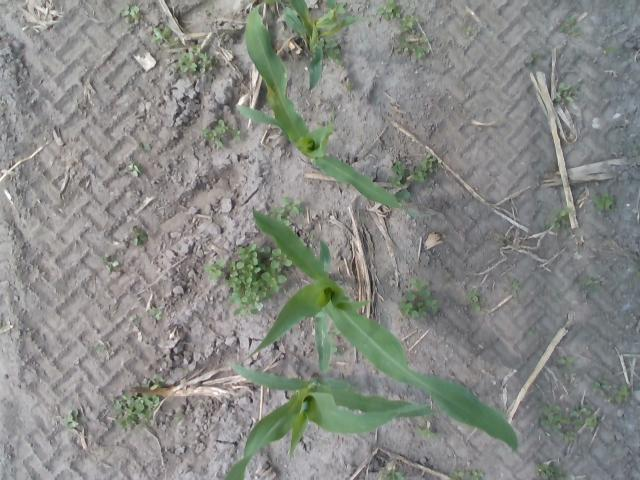Maize: (250, 206, 518, 453), (236, 2, 436, 218), (224, 361, 438, 480), (275, 0, 363, 90)
Weeds: (230, 242, 266, 314), (116, 394, 160, 427), (203, 119, 231, 147), (262, 267, 284, 293), (377, 1, 403, 19), (538, 462, 564, 480), (205, 258, 226, 278), (594, 191, 614, 211), (540, 415, 563, 432), (552, 208, 570, 229), (280, 199, 303, 214), (180, 53, 198, 72), (61, 409, 78, 428), (410, 278, 430, 294), (132, 226, 148, 246), (266, 248, 282, 267), (559, 18, 576, 35), (396, 180, 410, 200), (402, 13, 418, 30), (615, 386, 630, 404), (570, 405, 590, 418), (392, 40, 408, 56), (411, 301, 426, 318), (411, 43, 428, 58), (400, 294, 414, 312), (198, 55, 212, 73), (124, 5, 139, 21), (326, 42, 340, 59), (102, 254, 119, 268), (424, 153, 436, 172), (417, 428, 436, 440), (560, 83, 572, 101), (152, 28, 170, 40), (560, 417, 584, 426), (545, 404, 559, 418), (393, 160, 407, 174), (382, 471, 403, 480), (582, 278, 596, 291), (558, 355, 576, 365), (528, 54, 545, 64), (150, 307, 163, 320), (414, 166, 426, 180), (230, 130, 242, 144), (467, 470, 483, 480), (594, 377, 606, 390), (426, 299, 438, 312), (468, 296, 481, 308), (273, 207, 286, 219), (128, 165, 141, 177), (192, 44, 204, 57), (164, 36, 178, 46), (450, 471, 464, 480), (388, 175, 403, 183), (564, 432, 576, 442), (152, 374, 164, 384), (138, 144, 152, 152), (332, 346, 344, 355), (418, 33, 430, 42), (330, 329, 340, 339), (100, 342, 110, 352), (334, 58, 344, 68), (586, 416, 598, 424), (528, 327, 536, 336), (606, 47, 615, 55), (346, 82, 354, 90), (514, 282, 520, 291), (466, 26, 471, 35)
